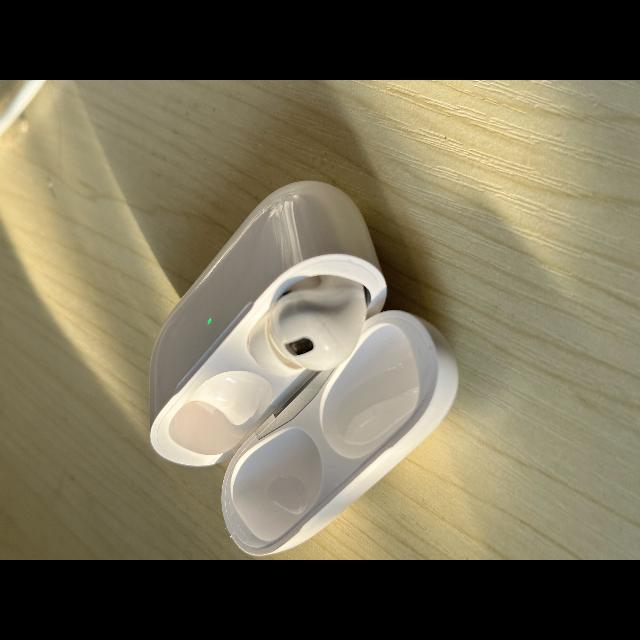AirPods Pro: (150, 180, 459, 556)
